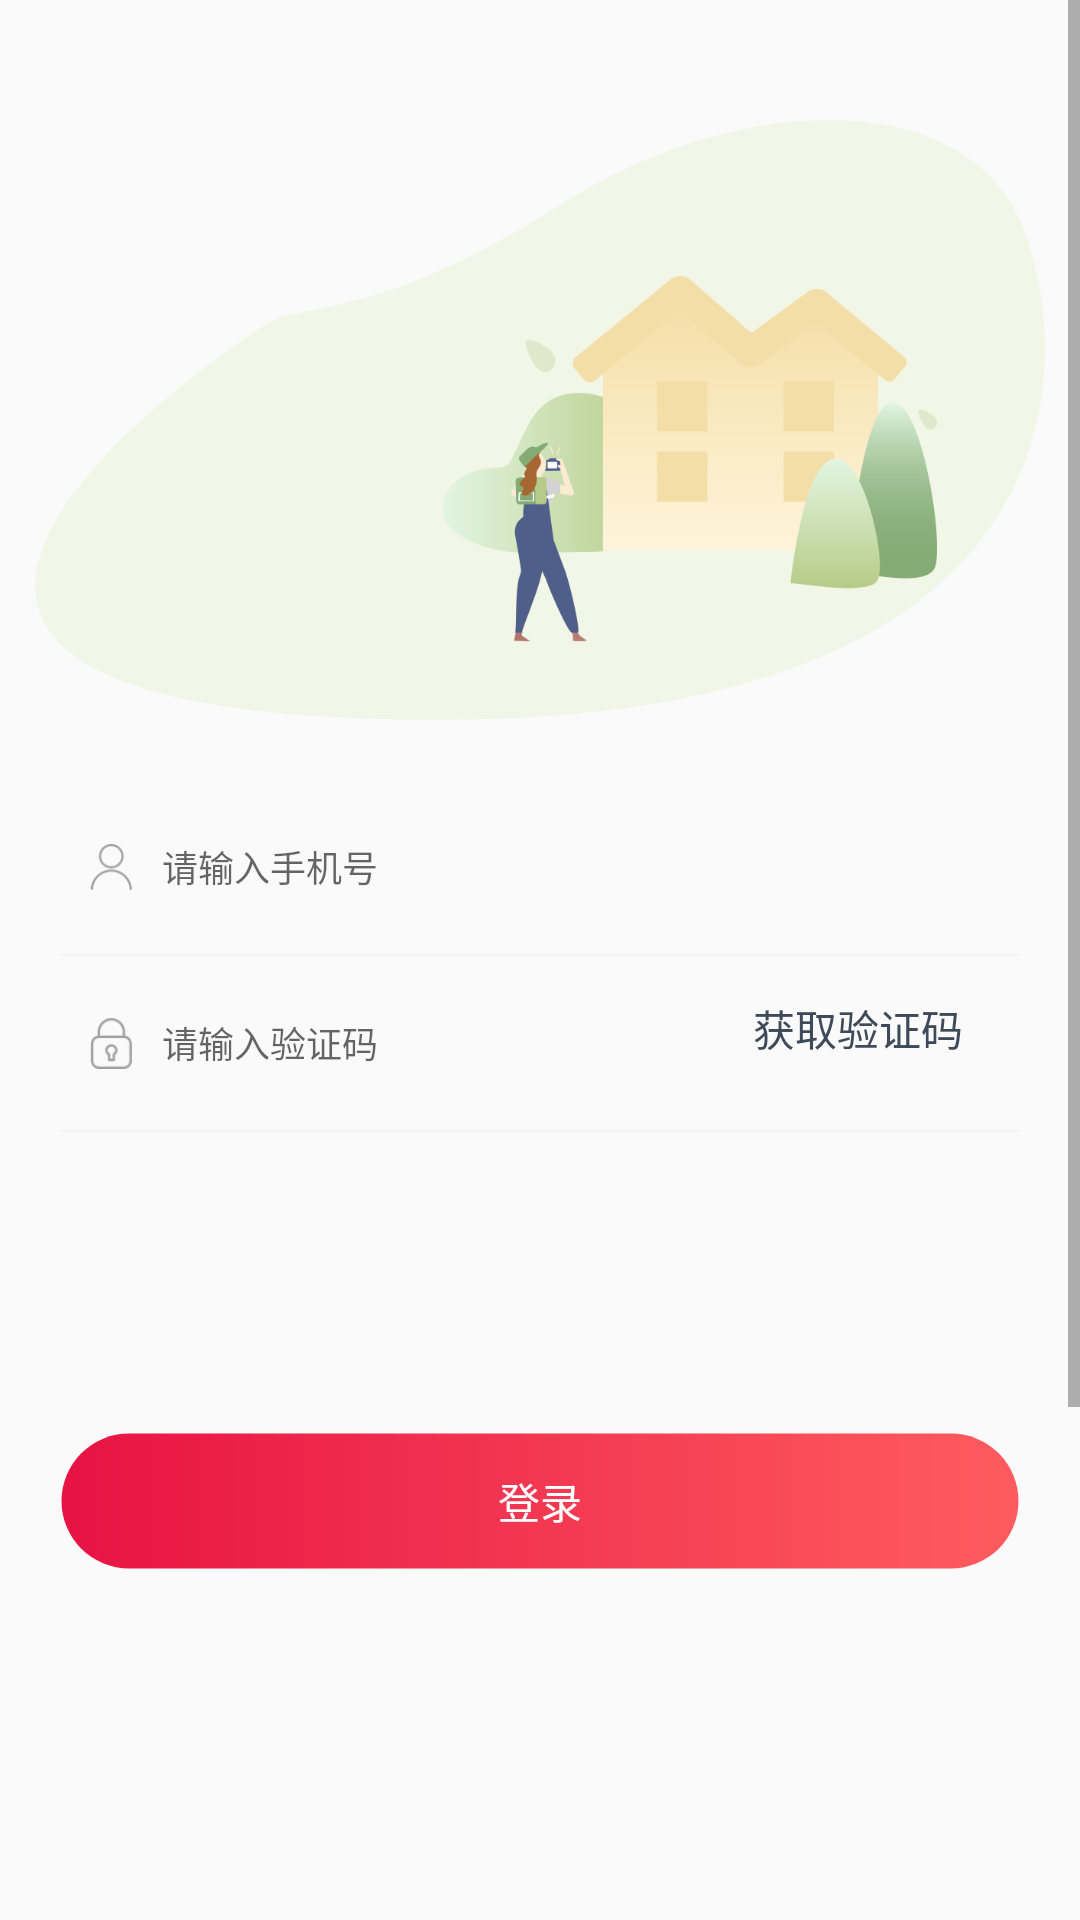

Named icons in this screenshot (1080 x 1920) and their centers, (x=x, y=y):
login pw: (x=111, y=1043)
login user: (x=111, y=867)
